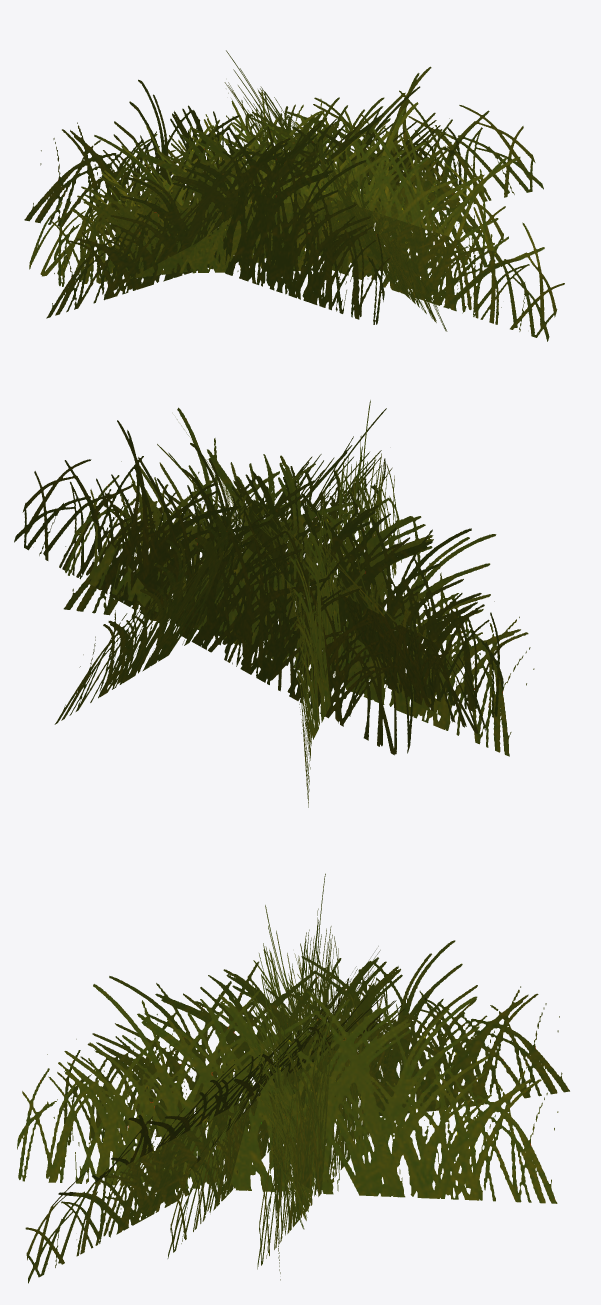
Rendered from SM_grass_clump.glb.
The picture shows the model from 3 angles, top to bottom: view 1: azimuth 30°, elevation 25°; view 2: azimuth 150°, elevation 25°; view 3: azimuth 270°, elevation 25°; orthographic projection. The views are drawn at different scales.
Parts seen in each view (by area): view 1: SM_grass_clump; view 2: SM_grass_clump; view 3: SM_grass_clump.
Boxes of the visible parts, bbox=[...] form: SM_grass_clump: bbox=[24, 50, 564, 341]; SM_grass_clump: bbox=[14, 400, 534, 807]; SM_grass_clump: bbox=[17, 873, 569, 1283].
Size of the model in its own units: 1.27 by 0.5338 by 1.09.
Materials: 1 (1 with a texture image).
